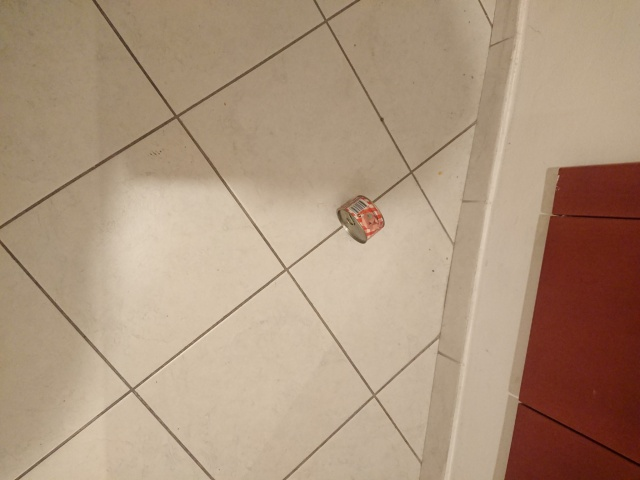Podravka Luncheon Meat 150g: (334, 192, 387, 246)
